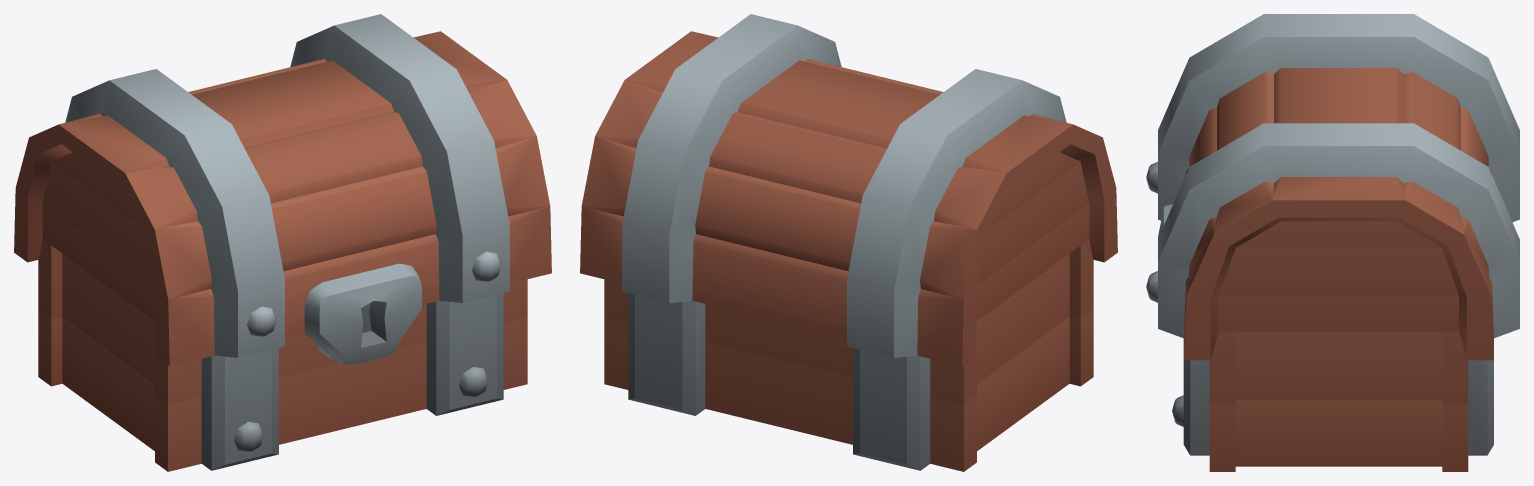
The model's file is chest.glb.
The picture shows the model from 3 angles, left to right: view 1: azimuth 30°, elevation 25°; view 2: azimuth 150°, elevation 25°; view 3: azimuth 270°, elevation 25°; orthographic projection.
Parts seen in each view (by area): view 1: hinge-lid, chest; view 2: hinge-lid, chest; view 3: hinge-lid, chest.
Part boxes in pixels (<box>): hinge-lid: <box>14,14,551,366</box>; chest: <box>38,239,527,471</box>; hinge-lid: <box>580,14,1117,366</box>; chest: <box>604,239,1093,471</box>; hinge-lid: <box>1146,14,1519,360</box>; chest: <box>1172,331,1493,471</box>.
Bounding box in the file's own units: 1.7 × 1.3 × 1.45.
1 material, 1 textured.
